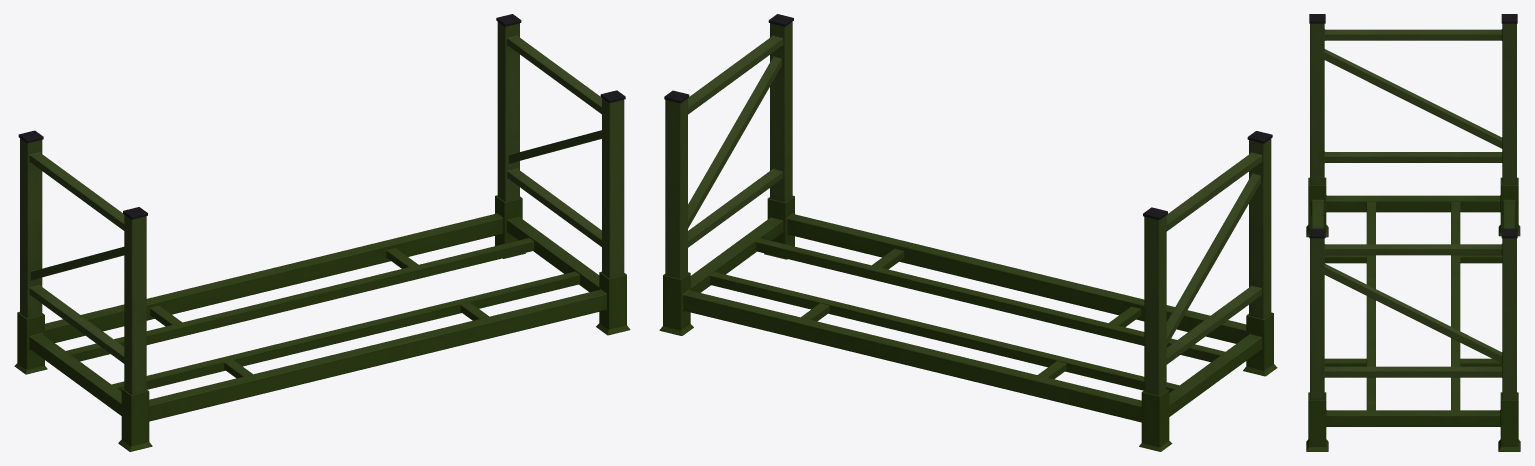
The model's file is storage_tire_rack_b01.glb.
3 renders of one model, left to right at view 1: azimuth 30°, elevation 25°; view 2: azimuth 150°, elevation 25°; view 3: azimuth 270°, elevation 25°, orthographic. The views are drawn at different scales.
Visible parts, largest first — view 1: tireRack_01_mesh_00; view 2: tireRack_01_mesh_00; view 3: tireRack_01_mesh_00.
Boxes of the visible parts, bbox=[...] form: tireRack_01_mesh_00: bbox=[14, 14, 630, 451]; tireRack_01_mesh_00: bbox=[659, 14, 1277, 451]; tireRack_01_mesh_00: bbox=[1306, 14, 1520, 451].
Size of the model in its own units: 2.31 by 1.03 by 0.9291.
1 material, 1 textured.
